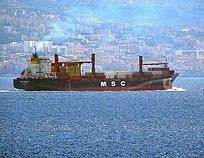Ship: (12, 46, 184, 96)
